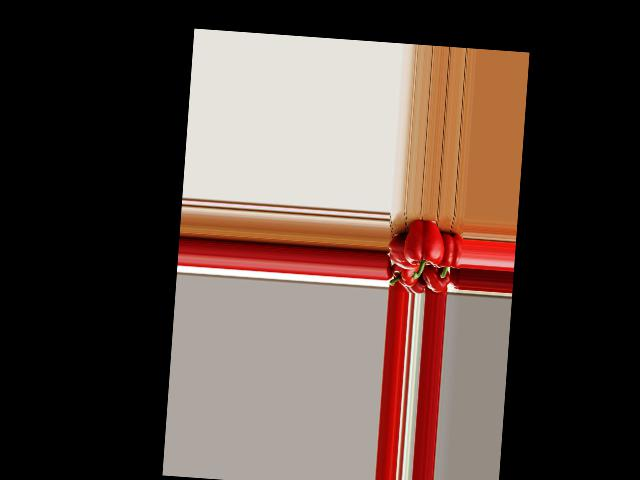bell_pepper: (387, 261, 418, 288)
